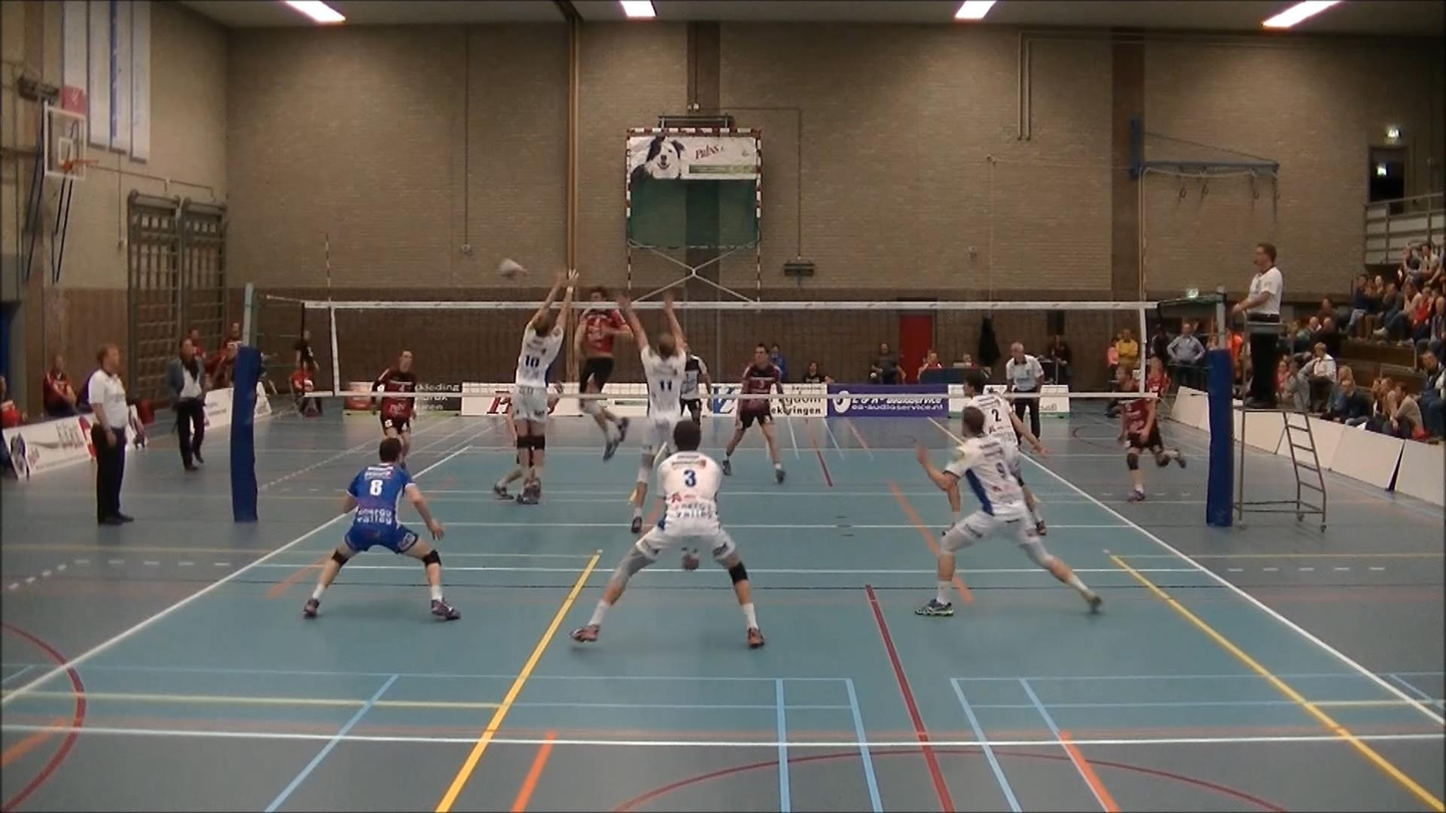attacco: (565, 261, 640, 463)
muro: (604, 281, 707, 470), (499, 277, 580, 506)
